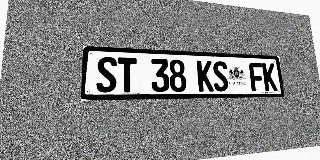3: (151, 59, 169, 92)
8: (169, 59, 187, 92)
F: (249, 62, 265, 91)
K: (197, 60, 214, 92), (262, 63, 278, 91)
S: (96, 56, 117, 92), (212, 61, 229, 91)
T: (117, 57, 137, 92)
